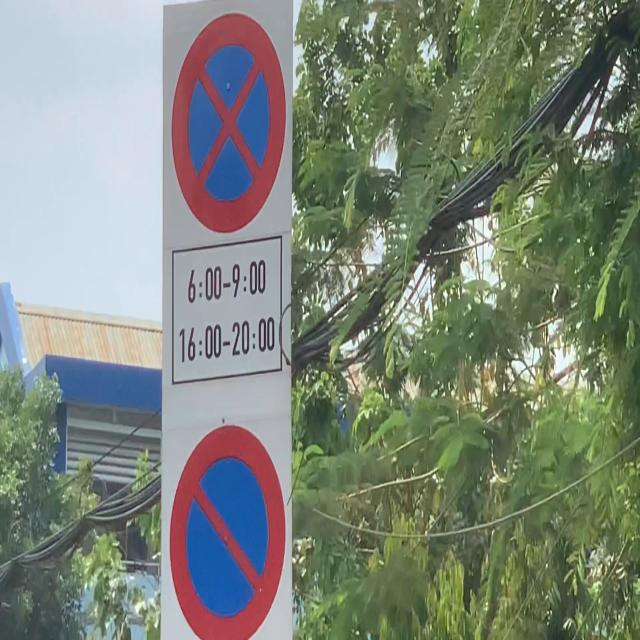Cam dung va do: (166, 6, 288, 229)
